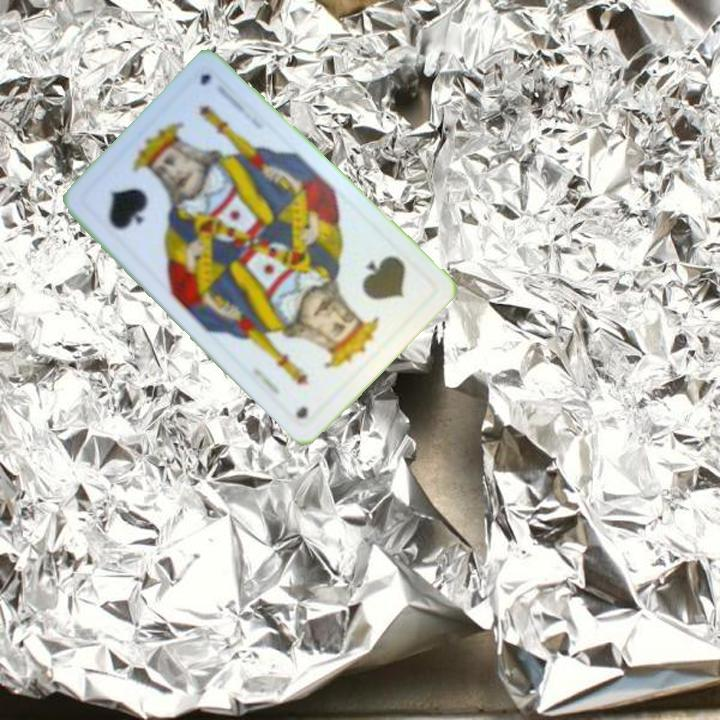s_k.png: (310, 230, 439, 359), (75, 134, 203, 263)
